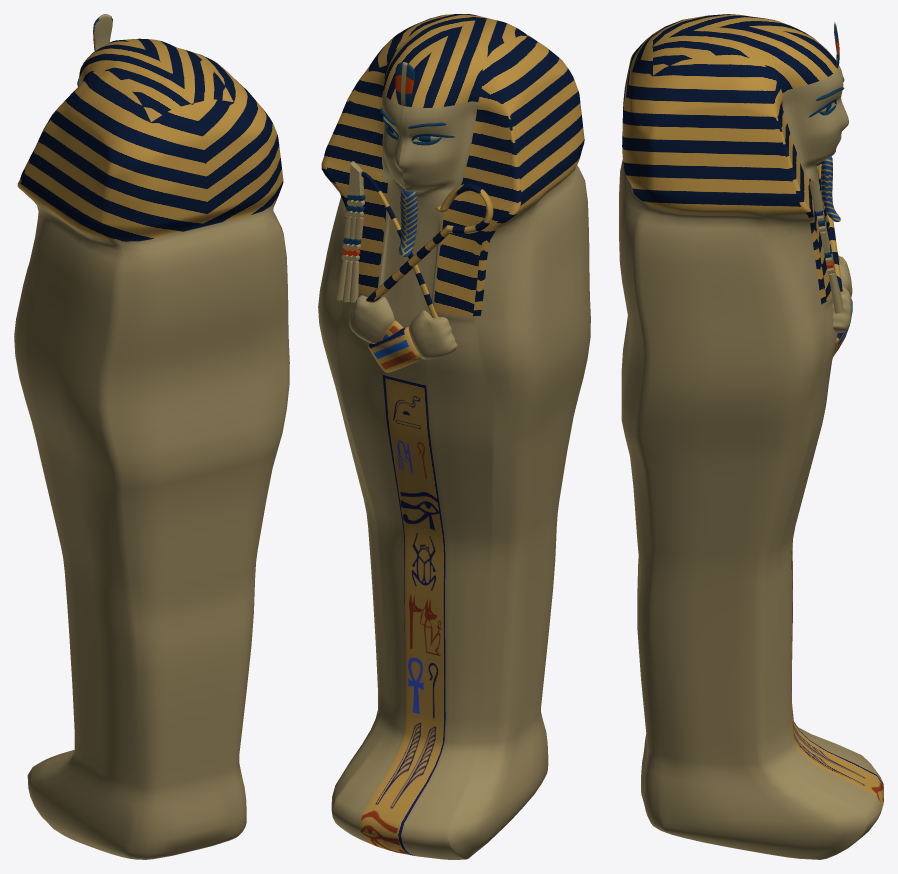
The model's file is sarcophagus.fbx.
3 renders of one model, left to right at view 1: azimuth 30°, elevation 25°; view 2: azimuth 150°, elevation 25°; view 3: azimuth 270°, elevation 25°, orthographic. The views are drawn at different scales.
Visible parts, largest first — view 1: sarcophagus_right2, body; view 2: sarcophagus_right2, hand (×2), cane, handcuff, goatee, stick, body; view 3: sarcophagus_right2, goatee, hand, cane.
Part boxes in pixels (box(x1,y1,x2,y2)): sarcophagus_right2: box(14, 38, 289, 859); body: box(93, 14, 112, 50); sarcophagus_right2: box(318, 14, 590, 859); hand (×2): box(349, 295, 457, 359); cane: box(366, 183, 493, 302); handcuff: box(368, 327, 422, 372); goatee: box(398, 188, 417, 256); stick: box(361, 171, 437, 318); body: box(395, 62, 414, 106); sarcophagus_right2: box(619, 14, 883, 859); goatee: box(821, 156, 840, 221); hand: box(832, 284, 851, 332); cane: box(817, 162, 842, 291).
Size of the model in its own units: 0.9457 by 3.31 by 0.979.
Materials: 7 (4 with a texture image).
